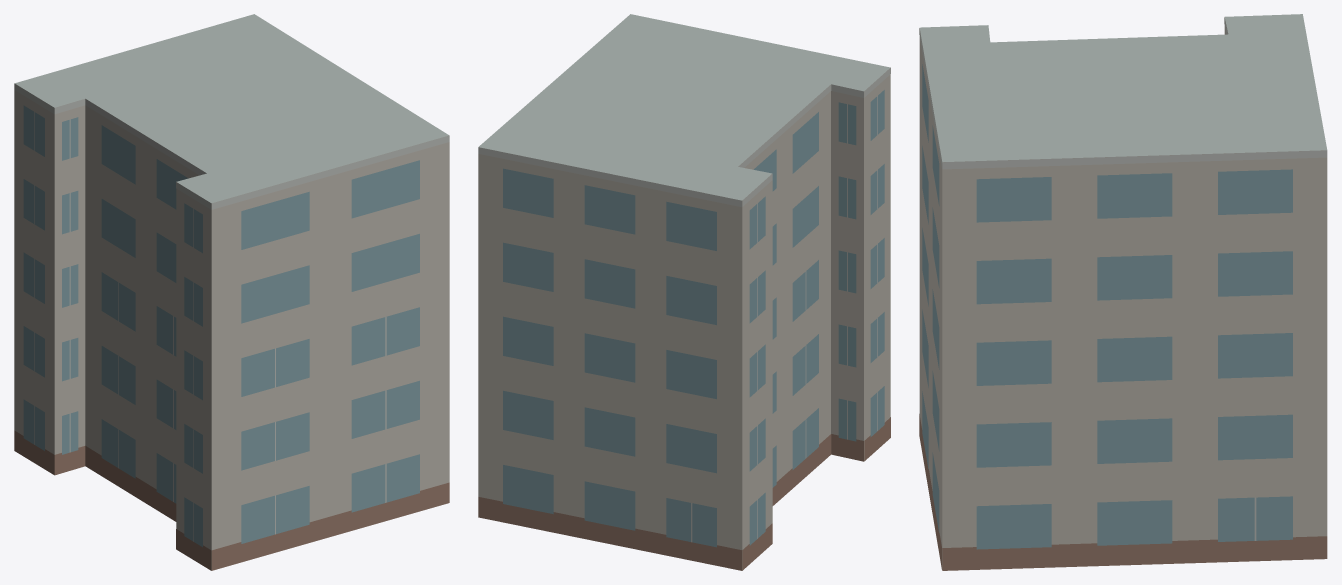
The model's file is survey-upis-32764096.glb.
The picture shows the model from 3 angles, left to right: view 1: azimuth 30°, elevation 25°; view 2: azimuth 150°, elevation 25°; view 3: azimuth 270°, elevation 25°; orthographic projection. The views are drawn at different scales.
Visible parts, largest first — view 1: survey-upis-32764096.tmp; view 2: survey-upis-32764096.tmp; view 3: survey-upis-32764096.tmp.
Boxes of the visible parts, x1=… form: survey-upis-32764096.tmp: x1=14, y1=14, x2=449, y2=570; survey-upis-32764096.tmp: x1=478, y1=14, x2=890, y2=570; survey-upis-32764096.tmp: x1=919, y1=14, x2=1327, y2=570.
Size of the model in its own units: 10.62 by 13.65 by 12.35.
